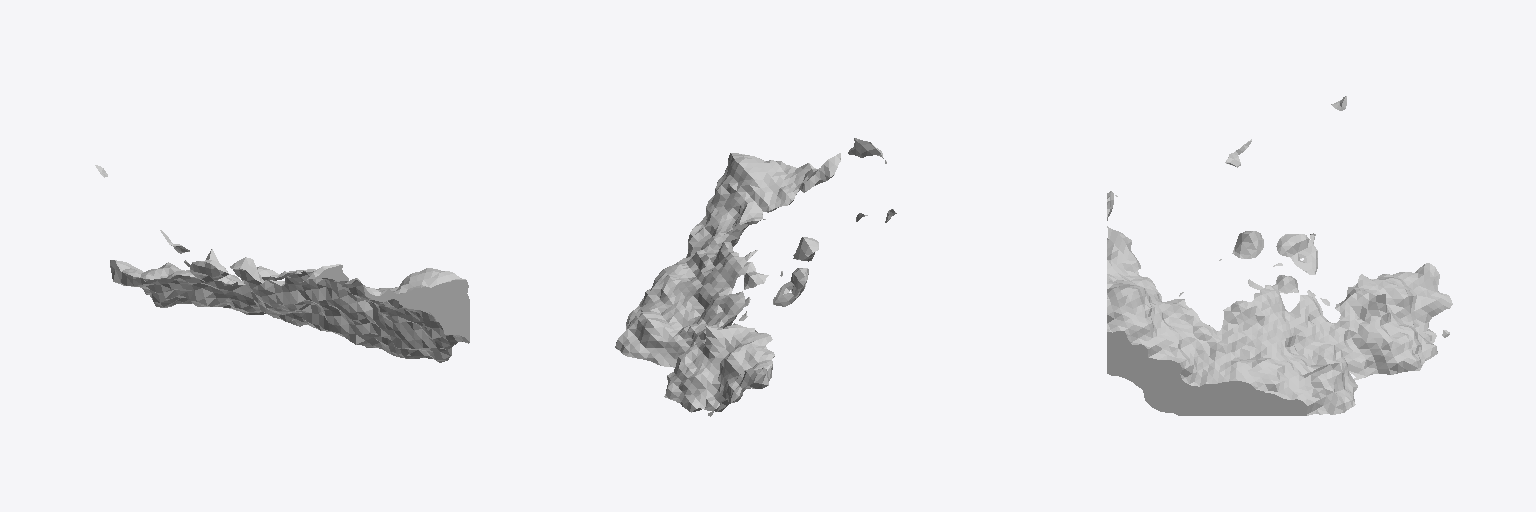
The model's file is cube_20_seed_4_shard.004.obj.
3 views of the same model, side by side, from view 1: azimuth 30°, elevation 25°; view 2: azimuth 150°, elevation 25°; view 3: azimuth 270°, elevation 25° (orthographic).
Visible parts, largest first — view 1: Cube_shard.004_Cube_shard.144; view 2: Cube_shard.004_Cube_shard.144; view 3: Cube_shard.004_Cube_shard.144.
Part boxes in pixels (bbox=[...]): Cube_shard.004_Cube_shard.144: bbox=[95, 165, 469, 362]; Cube_shard.004_Cube_shard.144: bbox=[615, 138, 896, 416]; Cube_shard.004_Cube_shard.144: bbox=[1107, 96, 1452, 415].
Size of the model in its own units: 1.54 by 1.13 by 1.8.